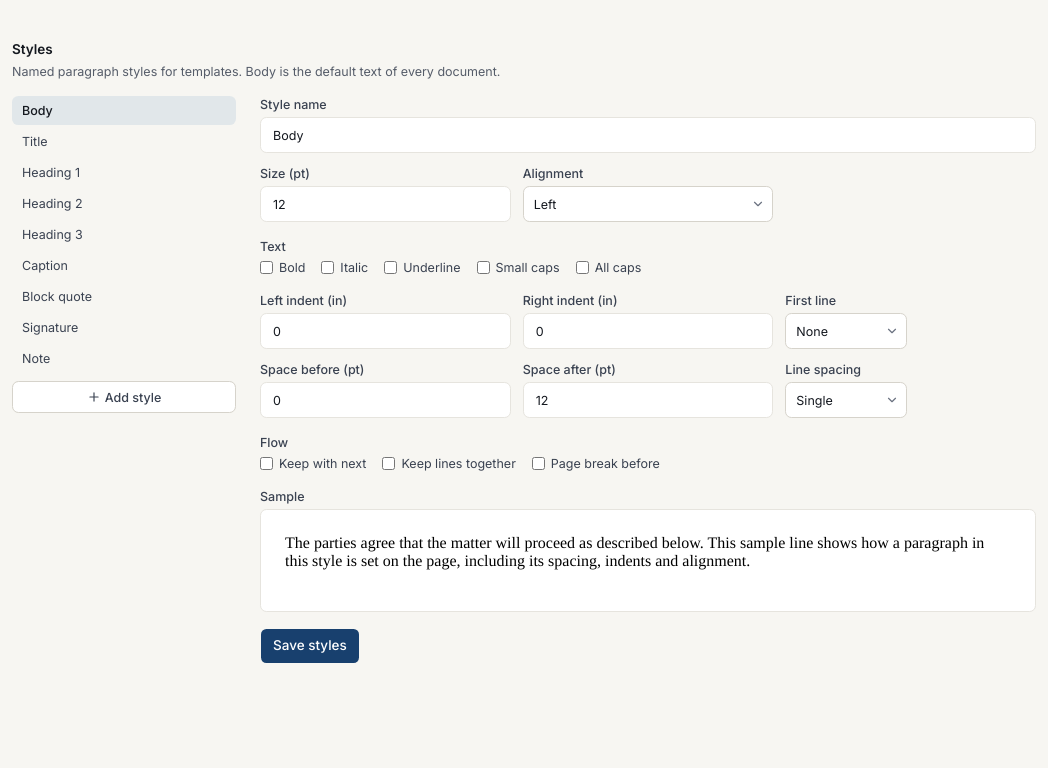
it: ParagraphStylesForm › shows a usage refusal from the server
What coordinates should you click on to do the following:
click the button "Save styles"
I would click on:
 (310, 646)
Its box is [260,628,360,664].
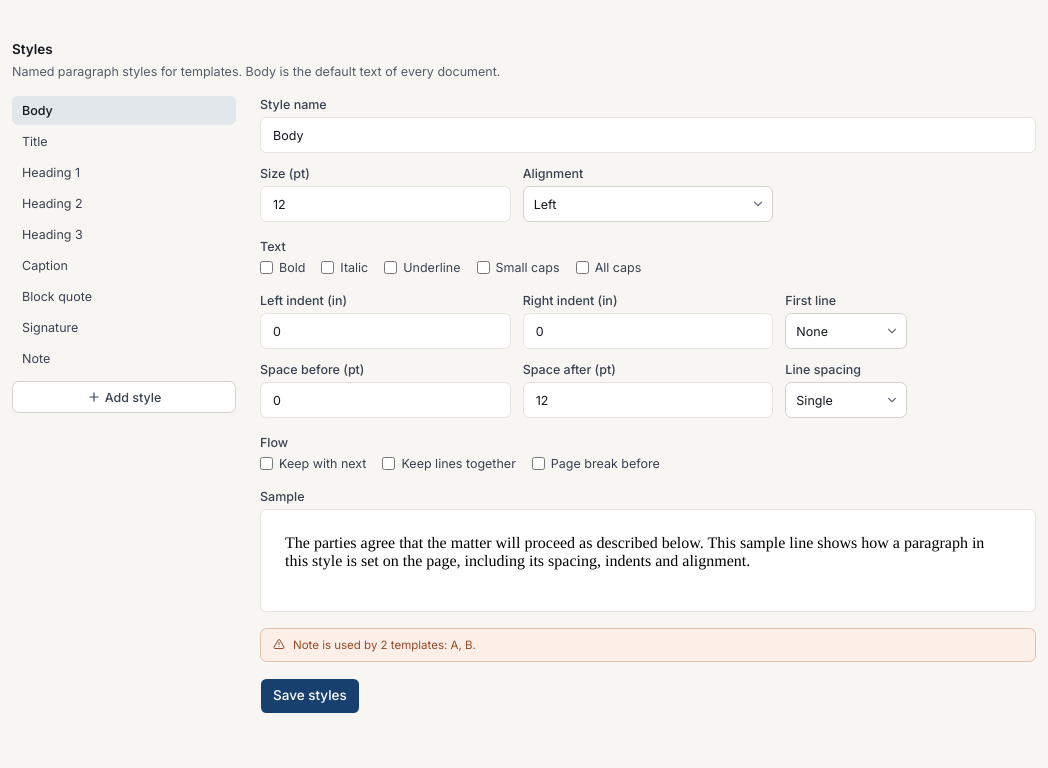
Check: the text "Note is used by 2 templates: A, B." is shown, box [293,637,476,653]
